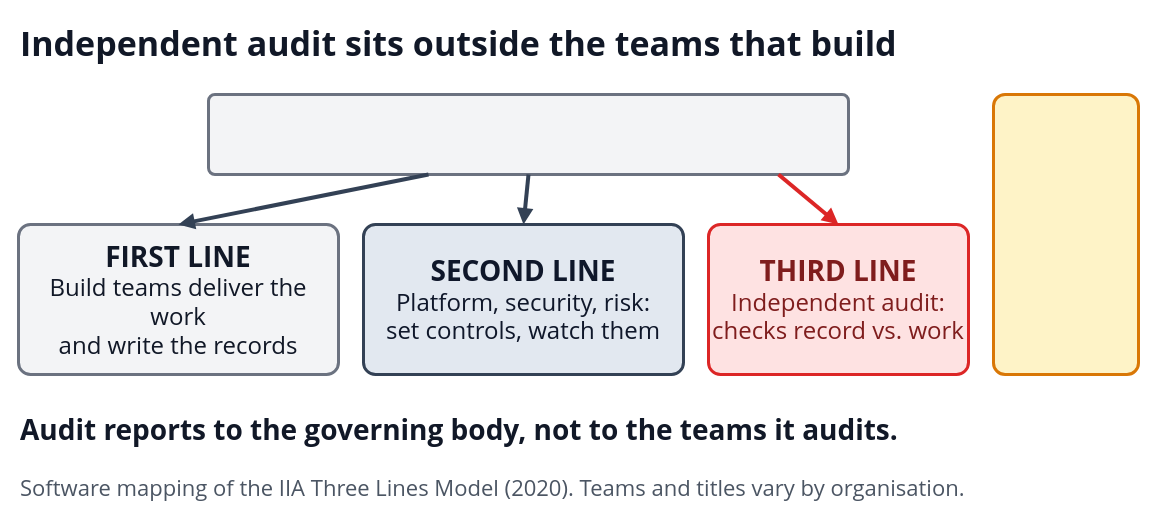
The diagram is 1157 pixels wide and 522 high, and some of its shapes have lost their labels. Each missing label, with the box of its shape:
EXTERNAL AUDITORS for high- sensitivity work: (992, 92, 1140, 376)
GOVERNING BODY oversight; backs independent audit: (206, 92, 850, 176)
